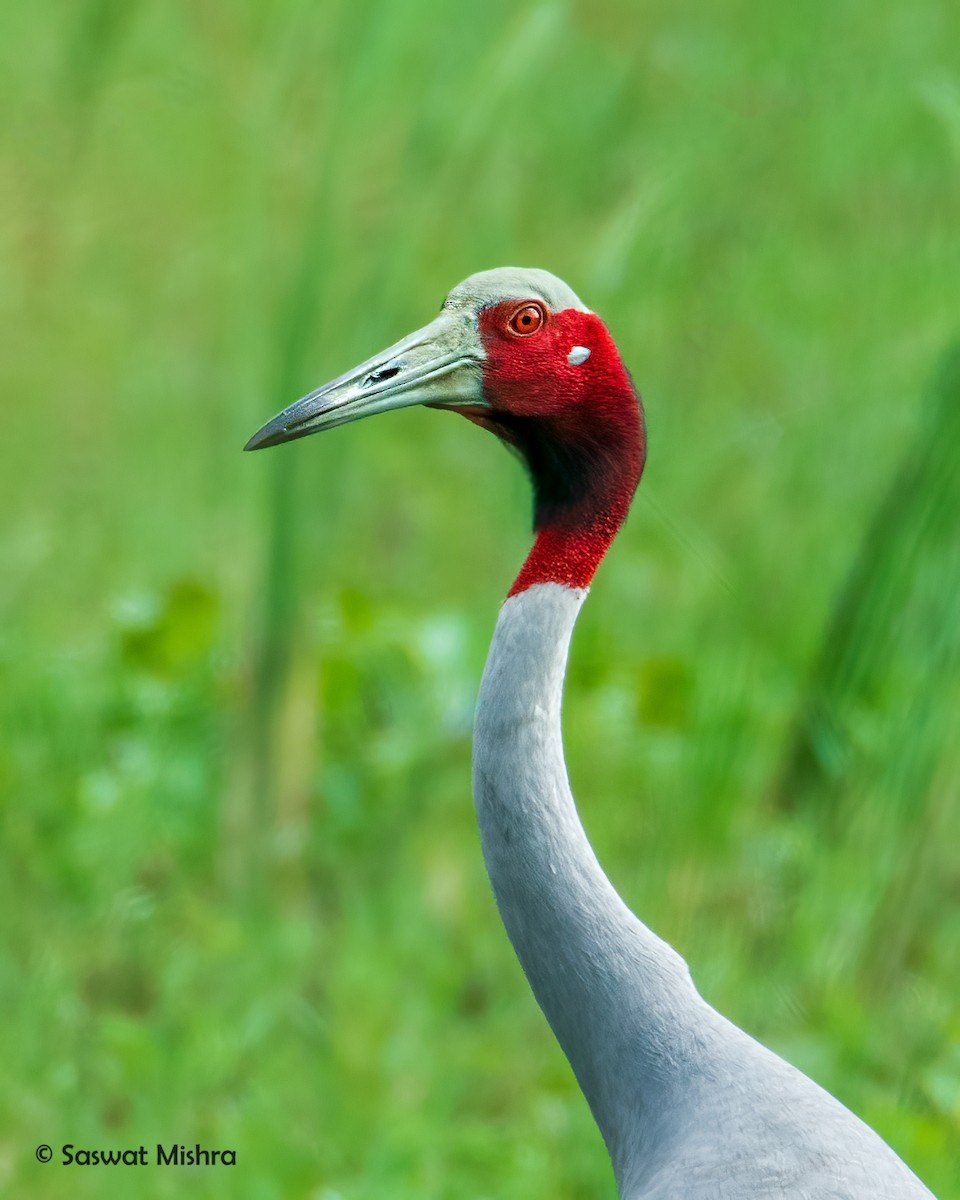crane: (236, 258, 948, 1200)
